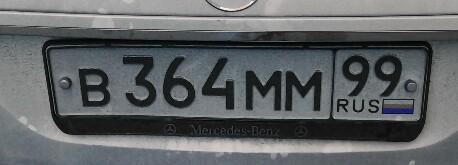license-plateSW: (41, 46, 437, 123)
